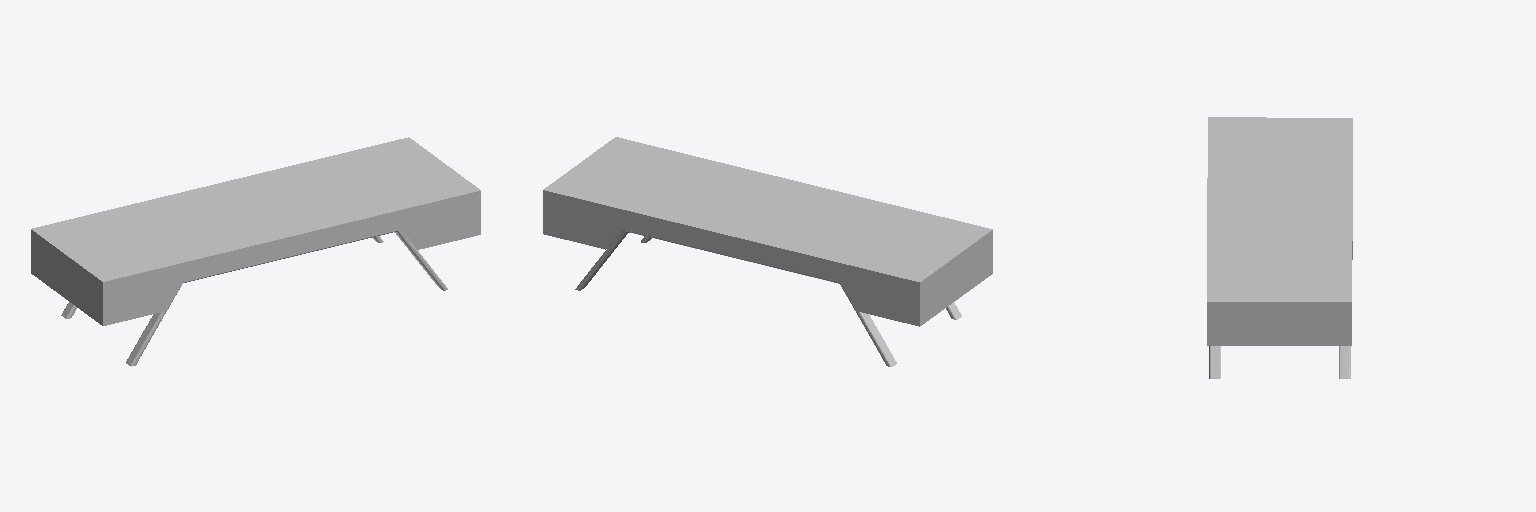
Rendered from IKEA-Bankas_Coffe_Table-3D.obj.
3 views of the same model, side by side, from view 1: azimuth 30°, elevation 25°; view 2: azimuth 150°, elevation 25°; view 3: azimuth 270°, elevation 25° (orthographic).
Parts seen in each view (by area): view 1: Rectangle02; view 2: Rectangle02; view 3: Rectangle02.
Boxes of the visible parts, x1=… form: Rectangle02: x1=31, y1=137, x2=480, y2=366; Rectangle02: x1=543, y1=137, x2=992, y2=366; Rectangle02: x1=1207, y1=117, x2=1352, y2=378.
Bounding box in the file's own units: 150 × 35.14 × 50.41.